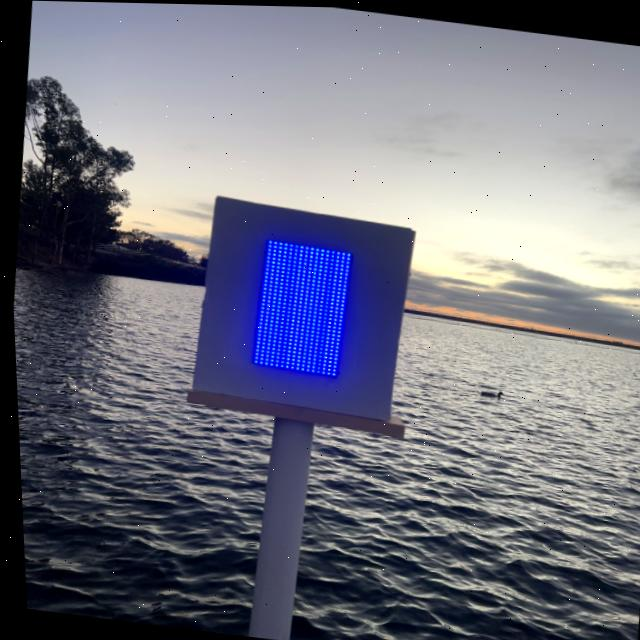led: (214, 214, 393, 408)
